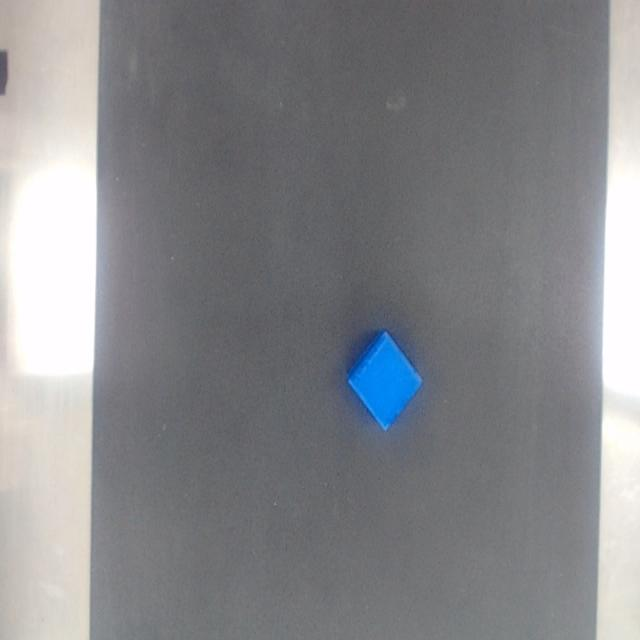Azul: (347, 331, 422, 429)
